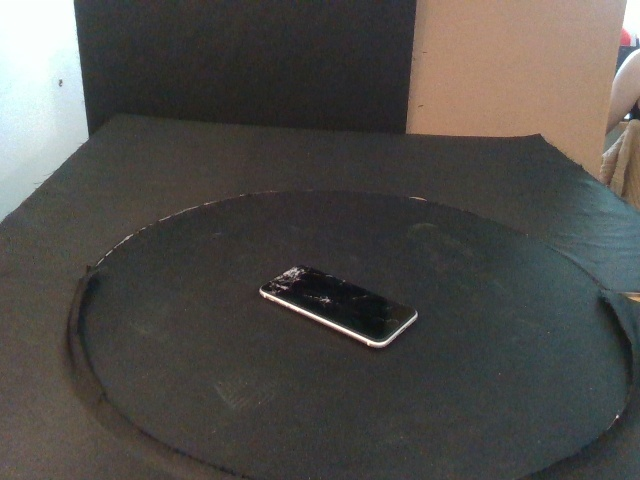phone: (258, 264, 420, 349)
